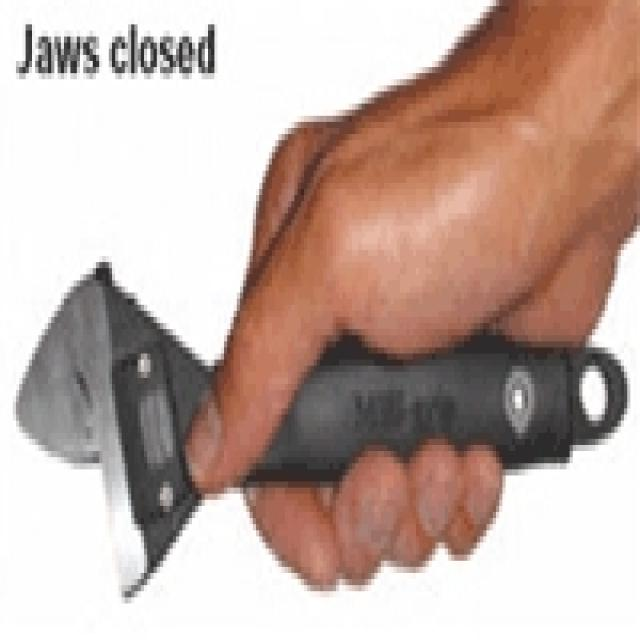wrench: (8, 254, 230, 614)
